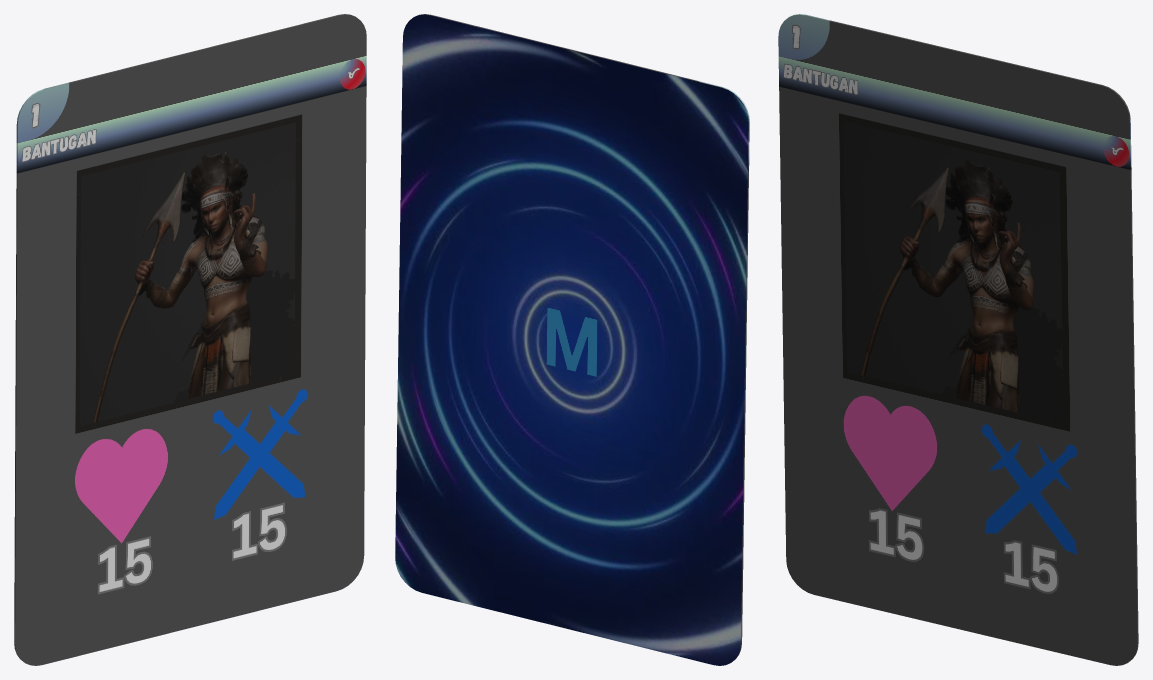
File: Bantugan.glb
The picture shows the model from 3 angles, left to right: view 1: azimuth 30°, elevation 25°; view 2: azimuth 150°, elevation 25°; view 3: azimuth 330°, elevation 25°; orthographic projection.
Parts seen in each view (by area): view 1: Card; view 2: Card; view 3: Card.
Part boxes in pixels (x1,y1,x2,y2): Card: [14, 14, 366, 665]; Card: [395, 14, 749, 665]; Card: [778, 14, 1138, 665].
Size of the model in its own units: 0.0564 by 0.0891 by 0.00197.
2 materials, 2 textured.
